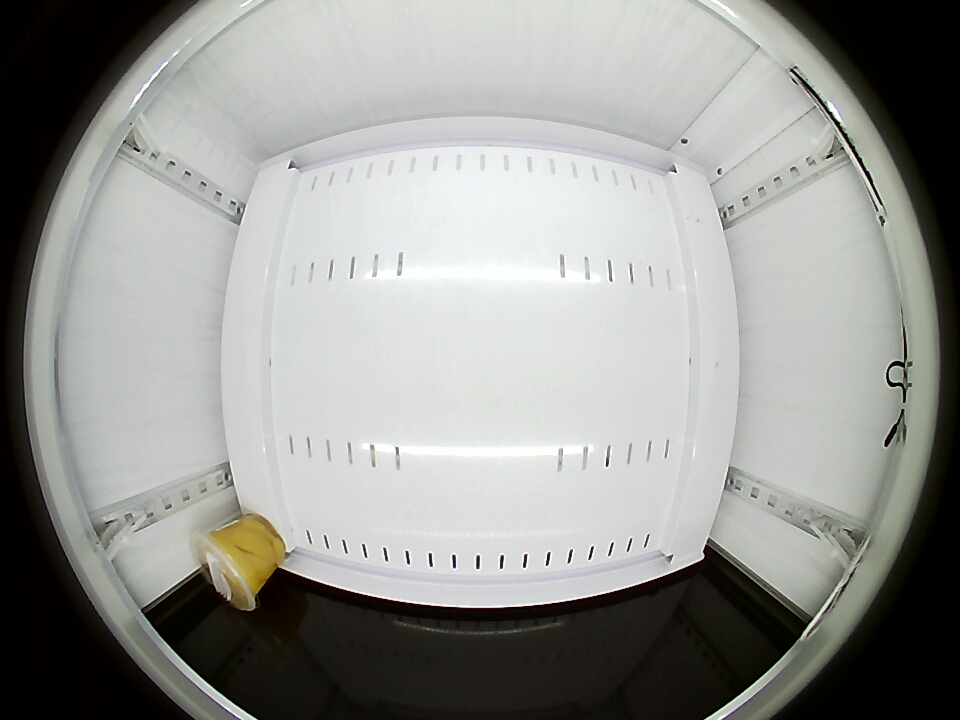xianguolao: (193, 525, 264, 610)
